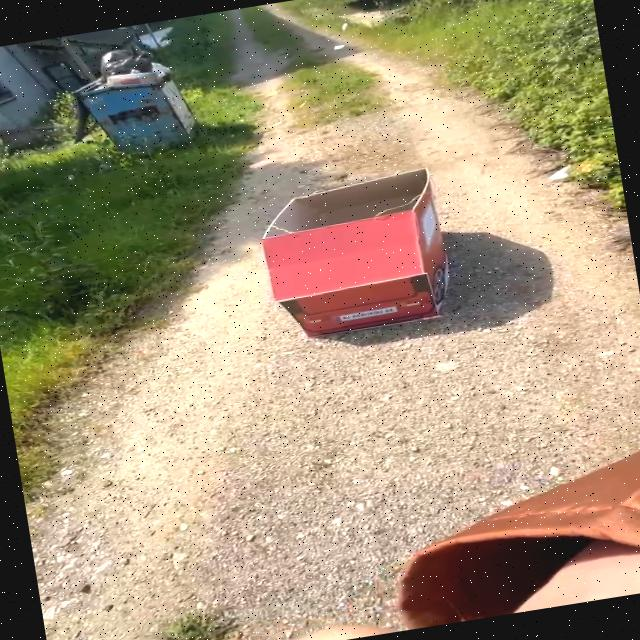red_car: (239, 161, 472, 375)
